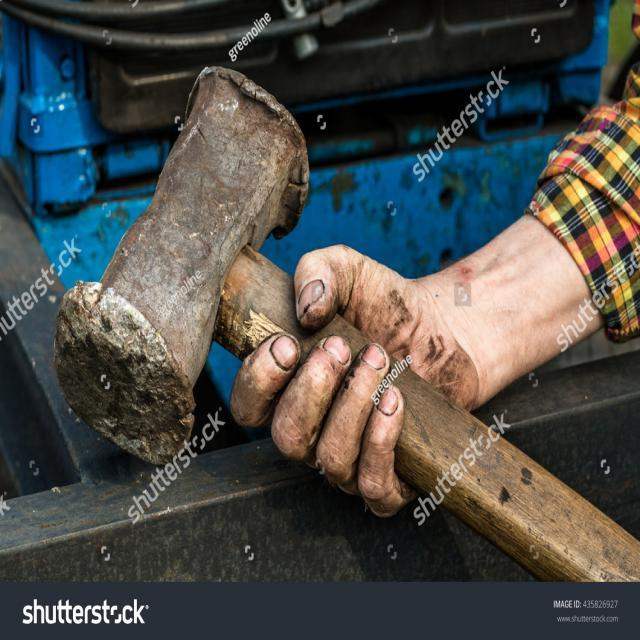hammer: (42, 61, 640, 582)
